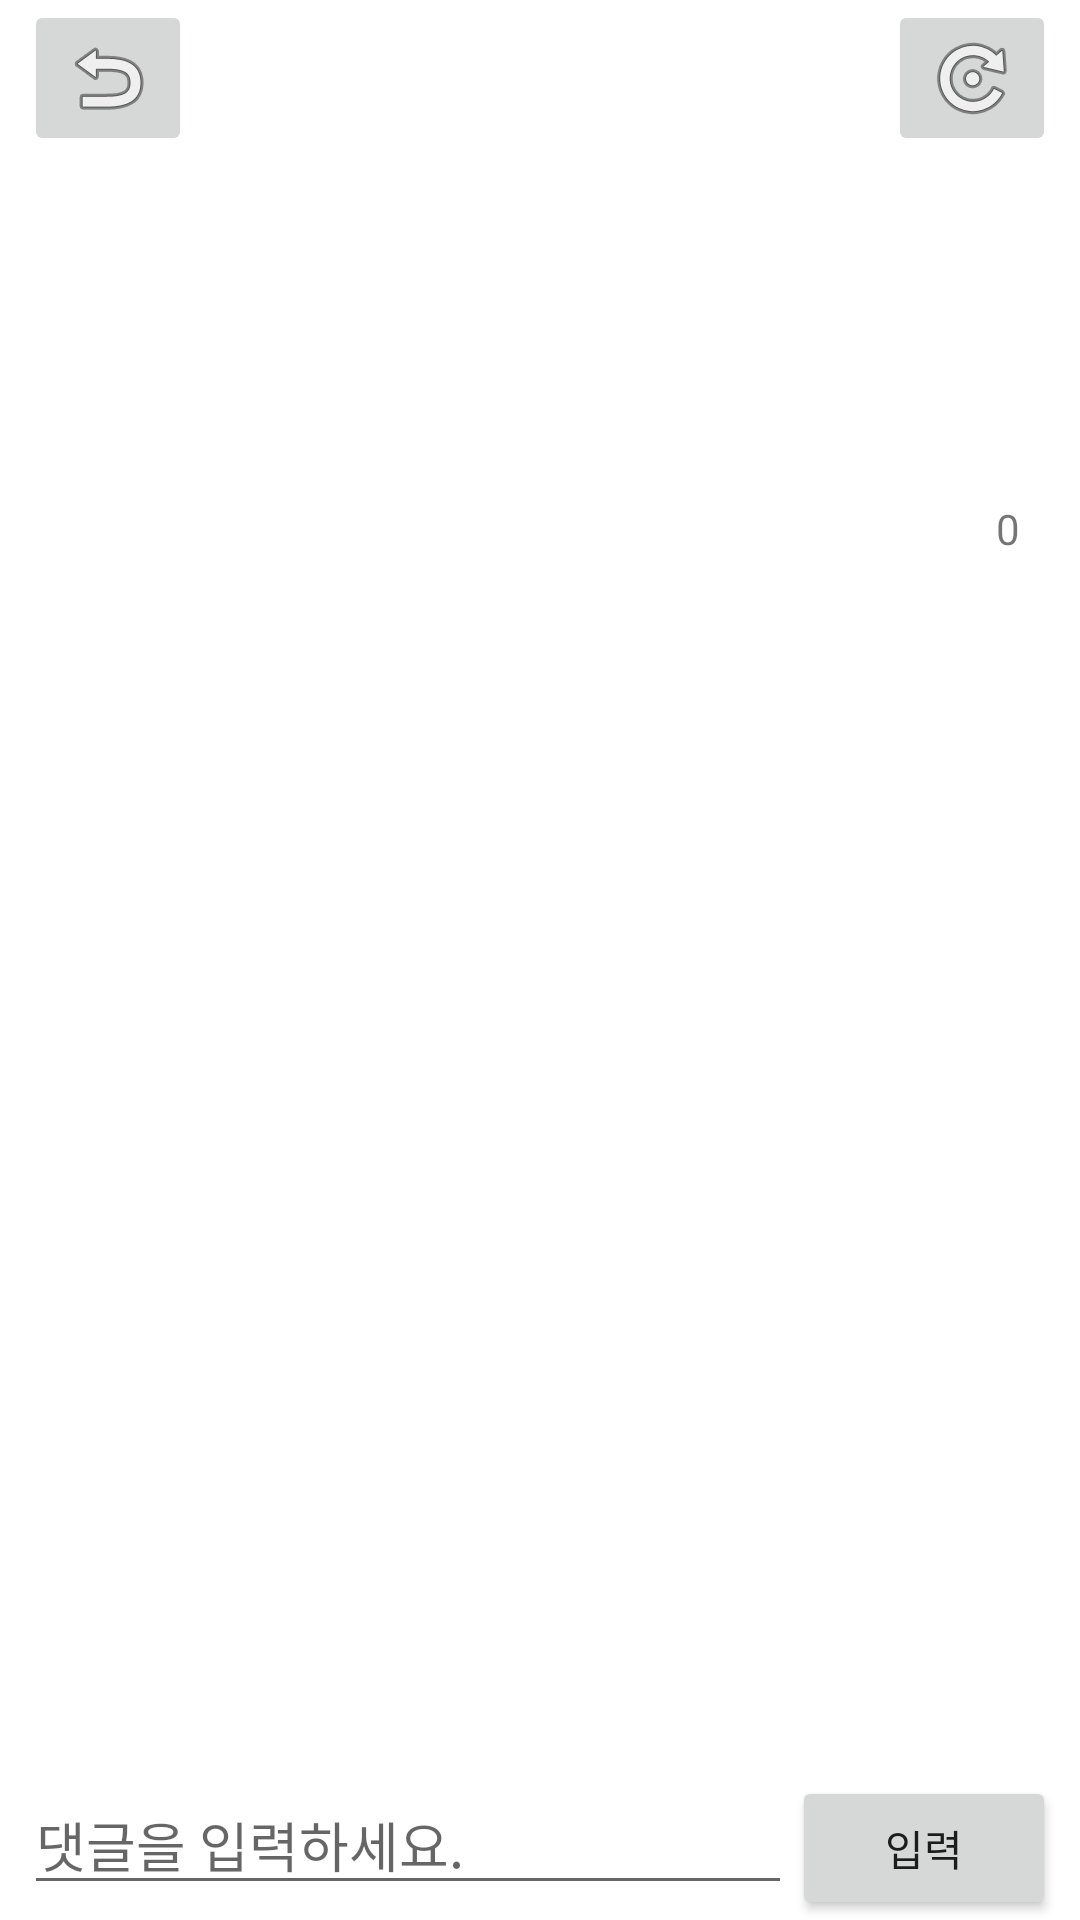

Screen size 1080x1920. Icon name, then its box in pixels as box=[x1, y1, x2, y2]:
revert: box=[36, 18, 180, 138]
rotate: box=[900, 18, 1044, 138]
